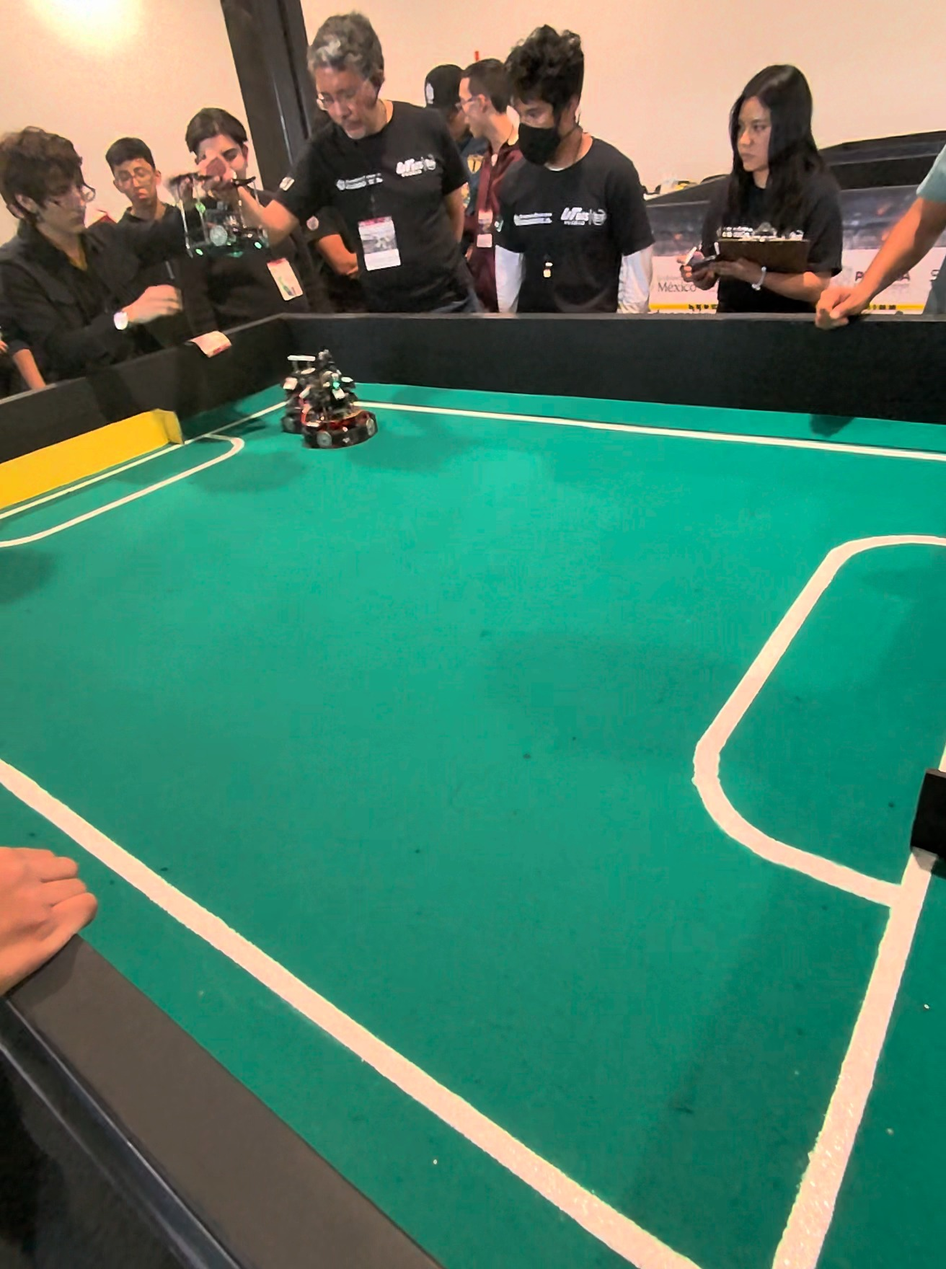Robot: (279, 351, 376, 460)
